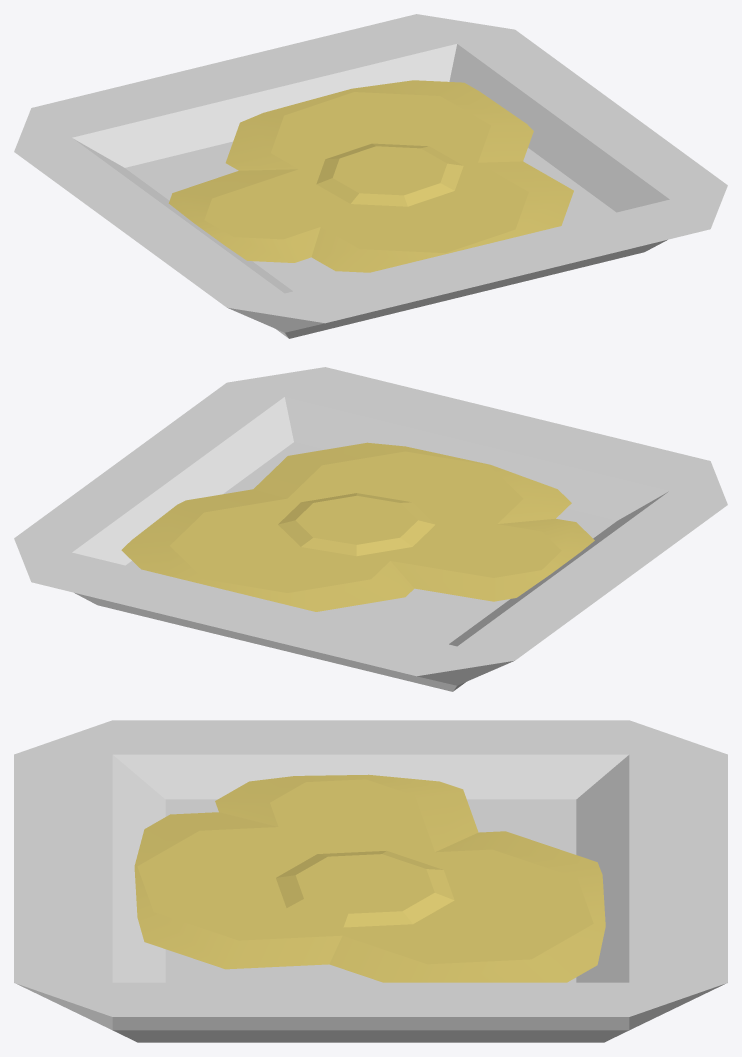
The model's file is eggwash.fbx.
3 views of the same model, one above another, from view 1: azimuth 30°, elevation 25°; view 2: azimuth 150°, elevation 25°; view 3: azimuth 270°, elevation 25° (orthographic). The views are drawn at different scales.
Parts seen in each view (by area): view 1: mergedBlocks; view 2: mergedBlocks; view 3: mergedBlocks.
Boxes of the visible parts, left/top/right/bottom form: mergedBlocks: left=14, top=14, right=727, bottom=338; mergedBlocks: left=14, top=367, right=727, bottom=691; mergedBlocks: left=14, top=720, right=727, bottom=1042.
Bounding box in the file's own units: 12.02 × 1.3 × 12.22.
